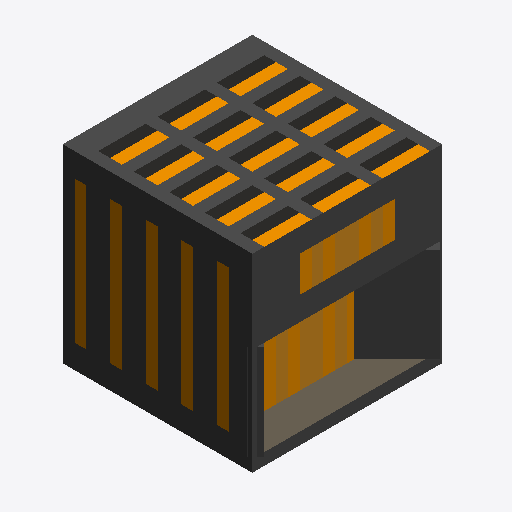
Isometric view (azimuth 45°, elevation 35.3°) of a Minecraft model made of 10 cuboids, textured from the same repository.
Parts seen in each view (by area): element 4, element 2, element 8, element 1, element 6, element 9, element 3, element 7, element 5.
Boxes of the visible parts, <box> form: element 4: <box>63,137,263,458</box>; element 2: <box>87,49,429,259</box>; element 8: <box>264,165,429,342</box>; element 1: <box>63,350,441,472</box>; element 6: <box>354,242,439,358</box>; element 9: <box>264,291,353,410</box>; element 3: <box>241,35,441,349</box>; element 7: <box>75,42,251,143</box>; element 5: <box>247,343,263,456</box>.
Size of the model in its own units: 16.02 by 16 by 16.64.